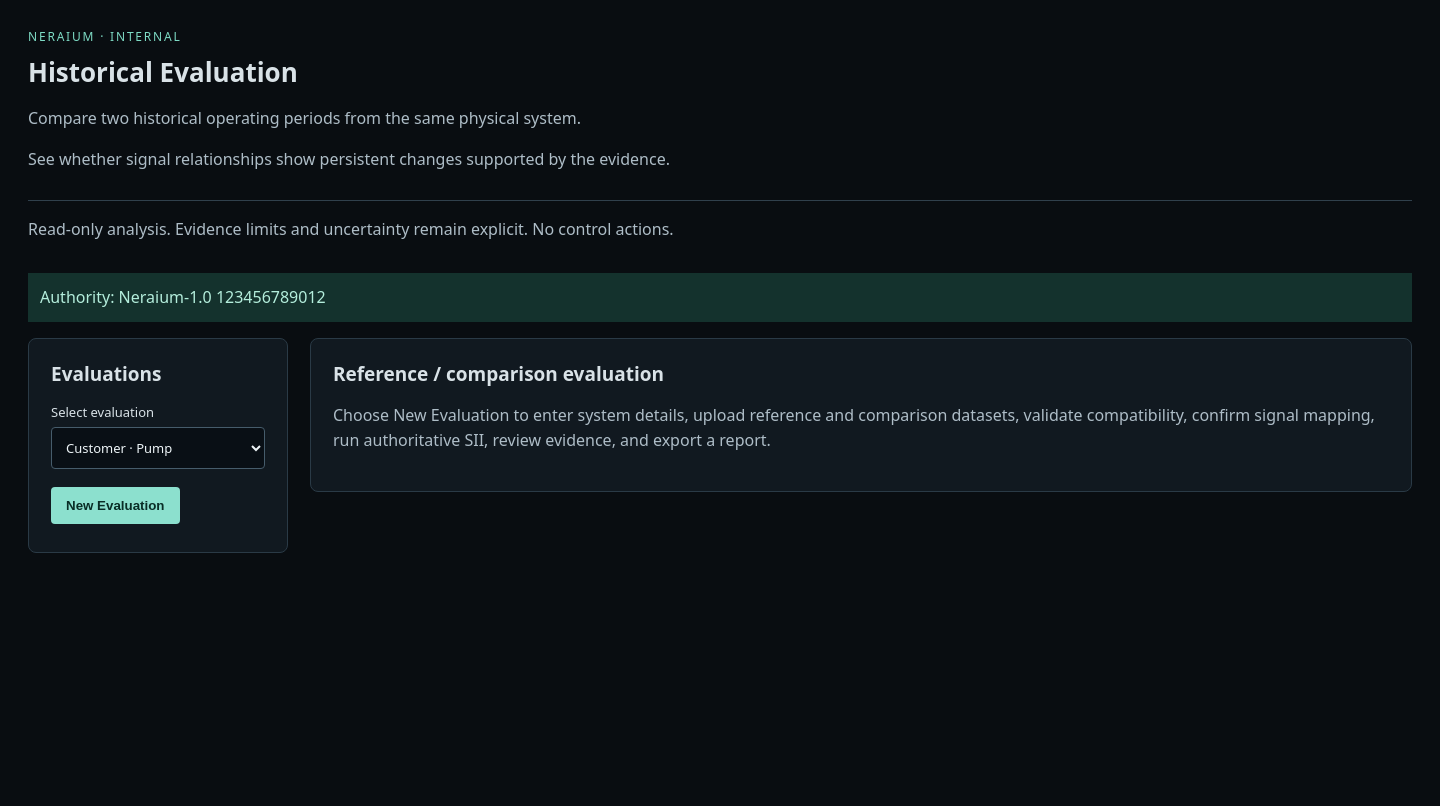
Test: approved paired mapping runs existing SII API and requires review before report export
The width and height of the screenshot is (1440, 806).
Later steps or results of the test are not shown.
Select "Customer · Pump" in the dropdown labelled "Select evaluation" at x=158, y=448, box [51,428,265,470]
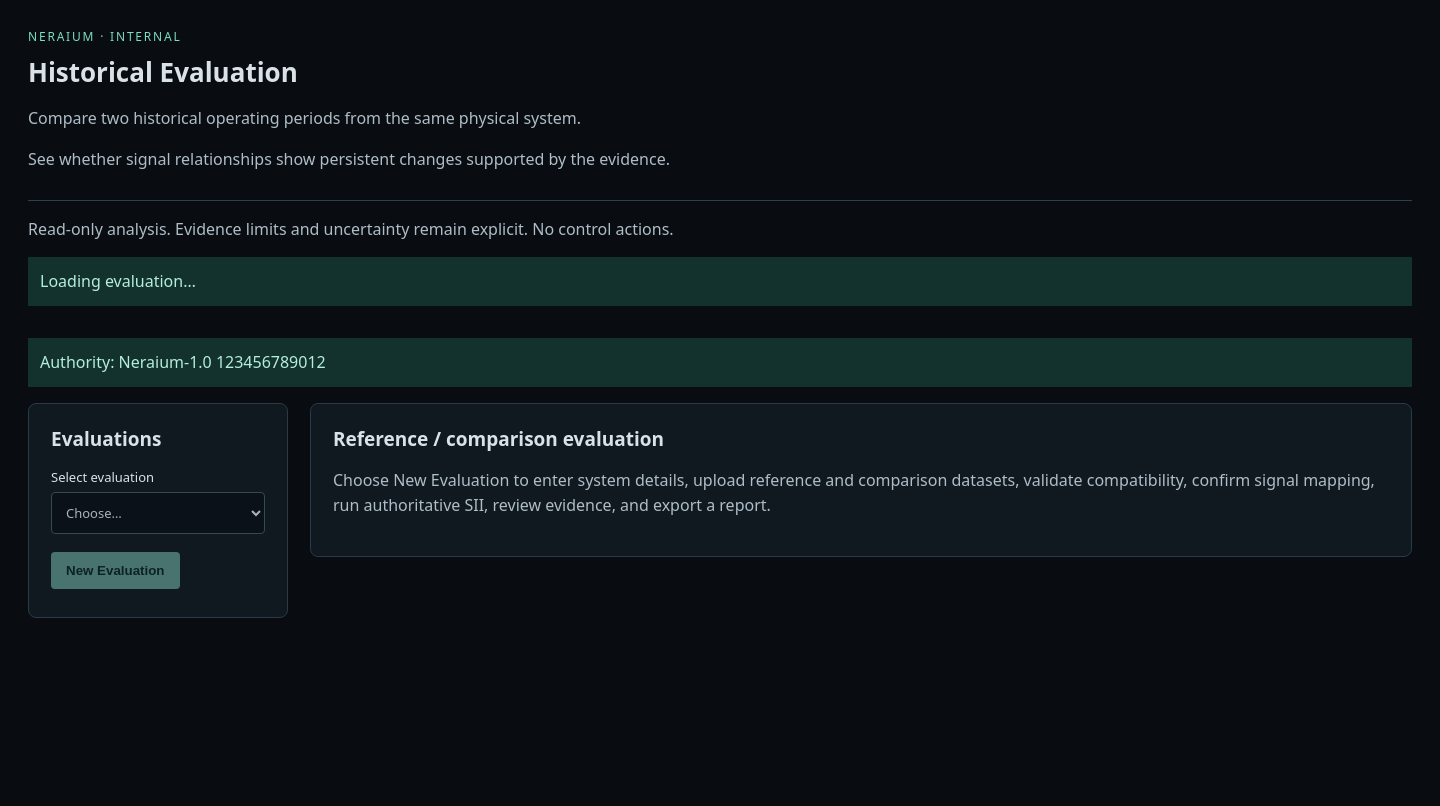
Select "Choose…" in the dropdown labelled "Select evaluation" at x=158, y=513, box [51,492,265,534]
(page scrolled)
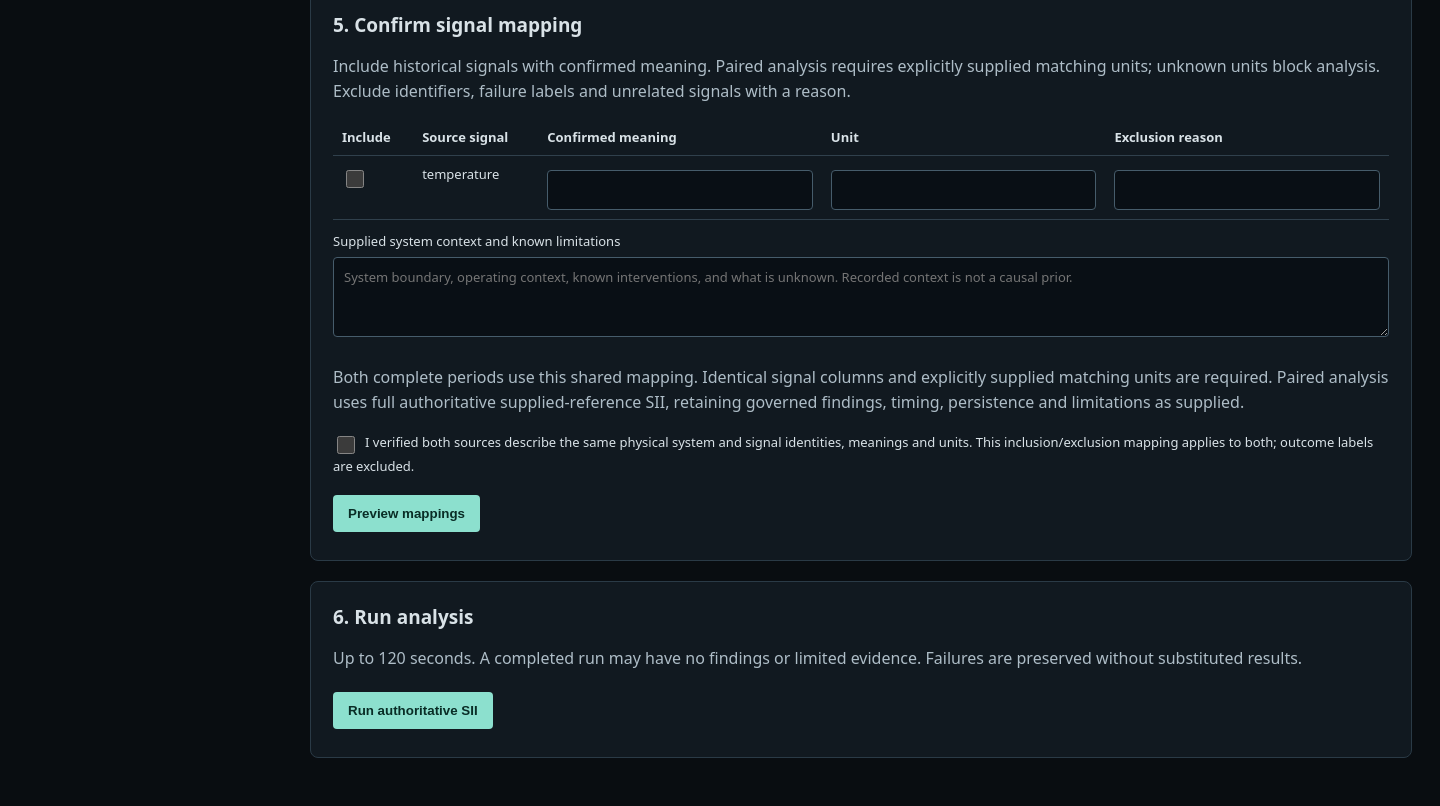
expect the text "5. Confirm signal mapping" is shown: met, box [333,12,582,38]
expect the text "full authoritative supplied-reference SII" is shown: met, box [333,366,1388,413]
Click the button "Run authoritative SII" at x=413, y=711, box [333,692,493,729]
(page scrolled)
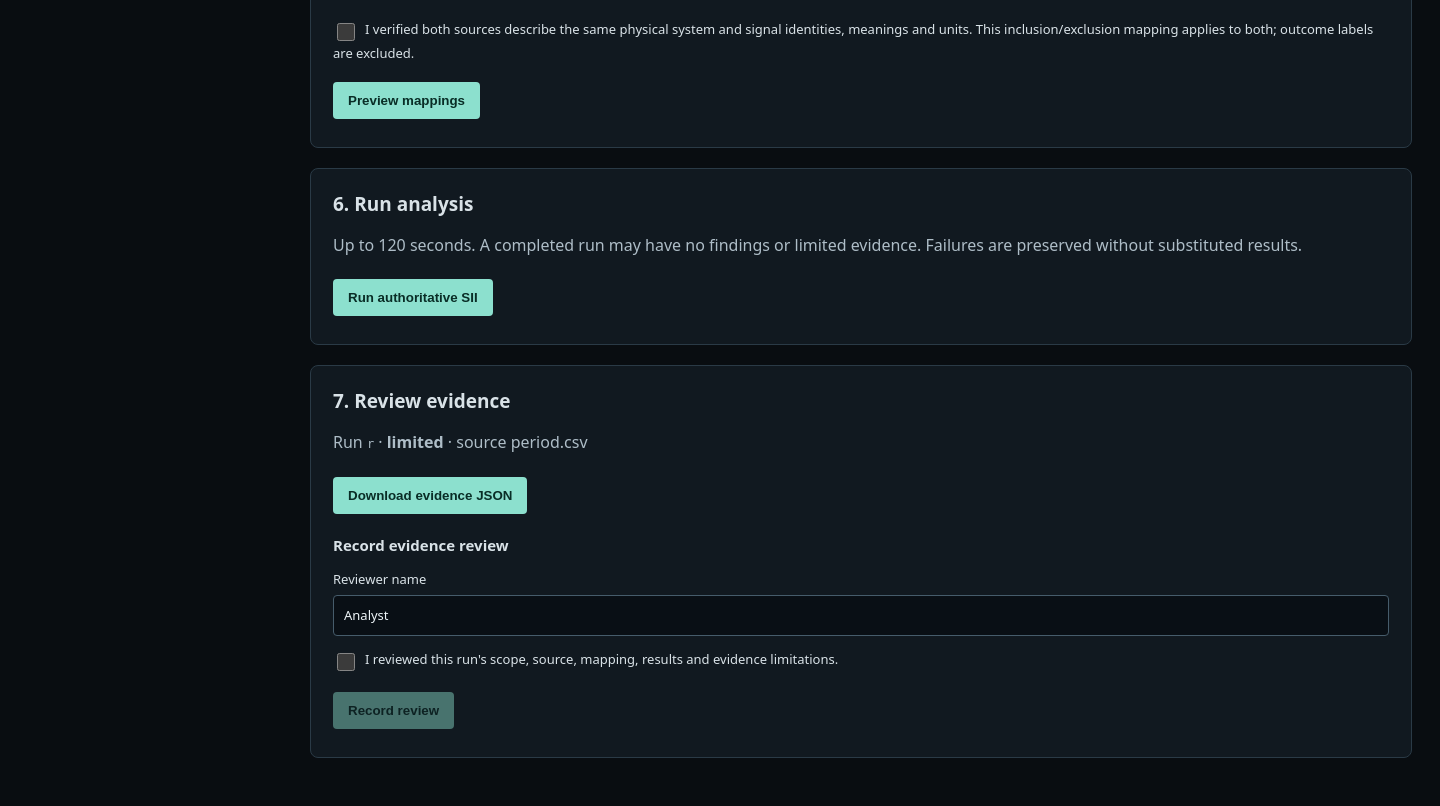
expect the text "7. Review evidence" is shown: met, box [333,388,510,414]
expect the button "Record review" is disabled: met, box [333,692,454,729]
